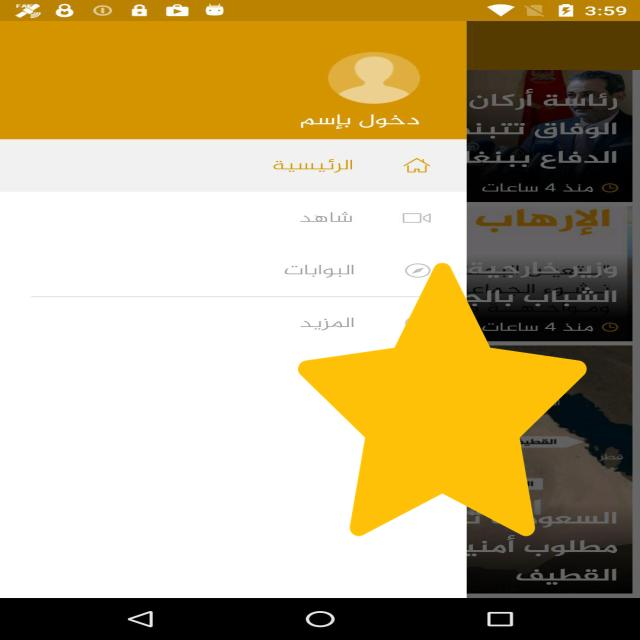forced continuity: (298, 263, 587, 536)
